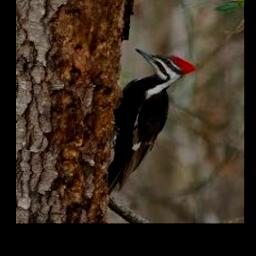Woodpecker: (107, 49, 194, 194)
